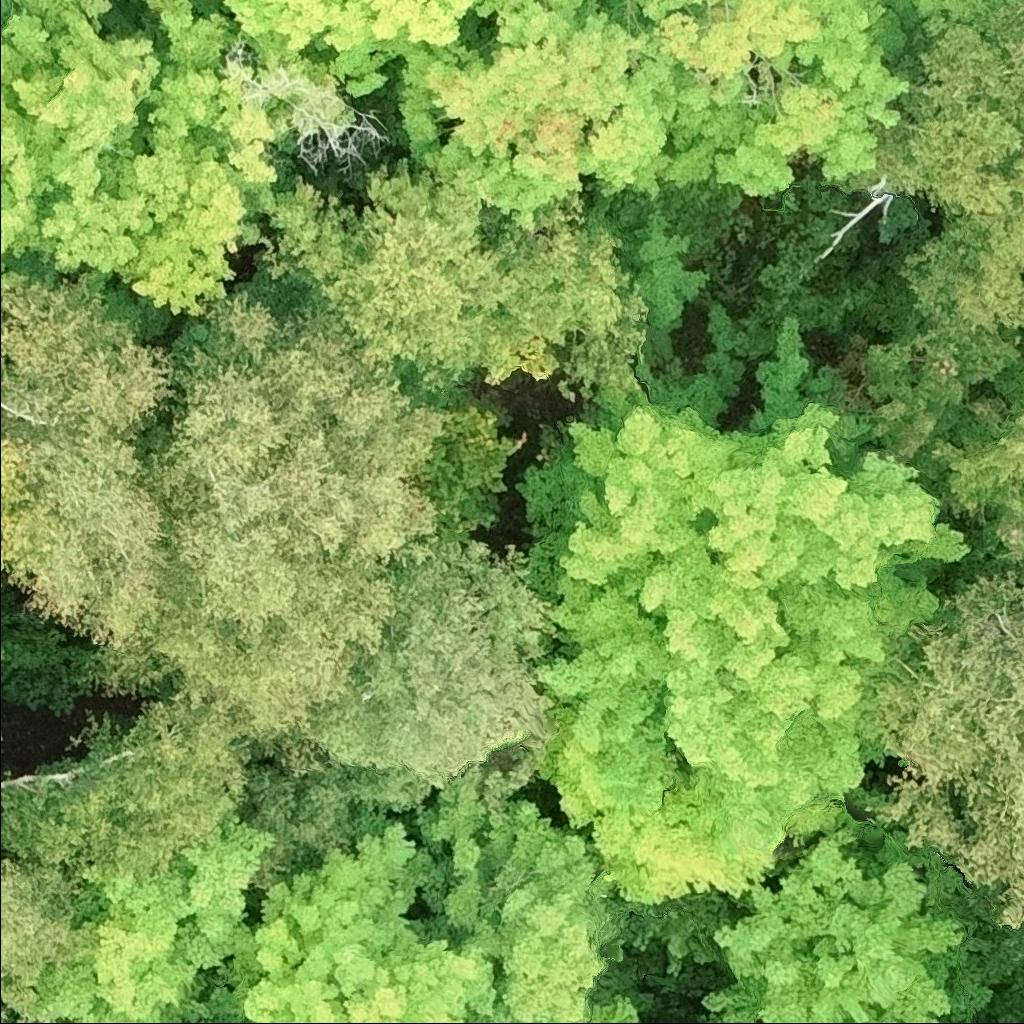crown: (89, 289, 472, 780), (513, 302, 971, 667), (531, 575, 892, 910), (258, 155, 653, 415), (0, 0, 296, 320), (378, 0, 715, 230), (598, 0, 932, 197), (309, 539, 555, 792), (208, 820, 504, 1023), (860, 569, 1023, 933), (700, 829, 995, 1023), (28, 814, 277, 1023), (403, 783, 619, 1023), (869, 0, 1023, 331), (0, 698, 261, 883), (859, 341, 1023, 585), (0, 416, 166, 650), (0, 272, 180, 441), (215, 0, 501, 98), (0, 823, 95, 1017), (902, 0, 1002, 49), (581, 996, 657, 1023), (471, 1003, 518, 1023), (0, 571, 8, 594)
